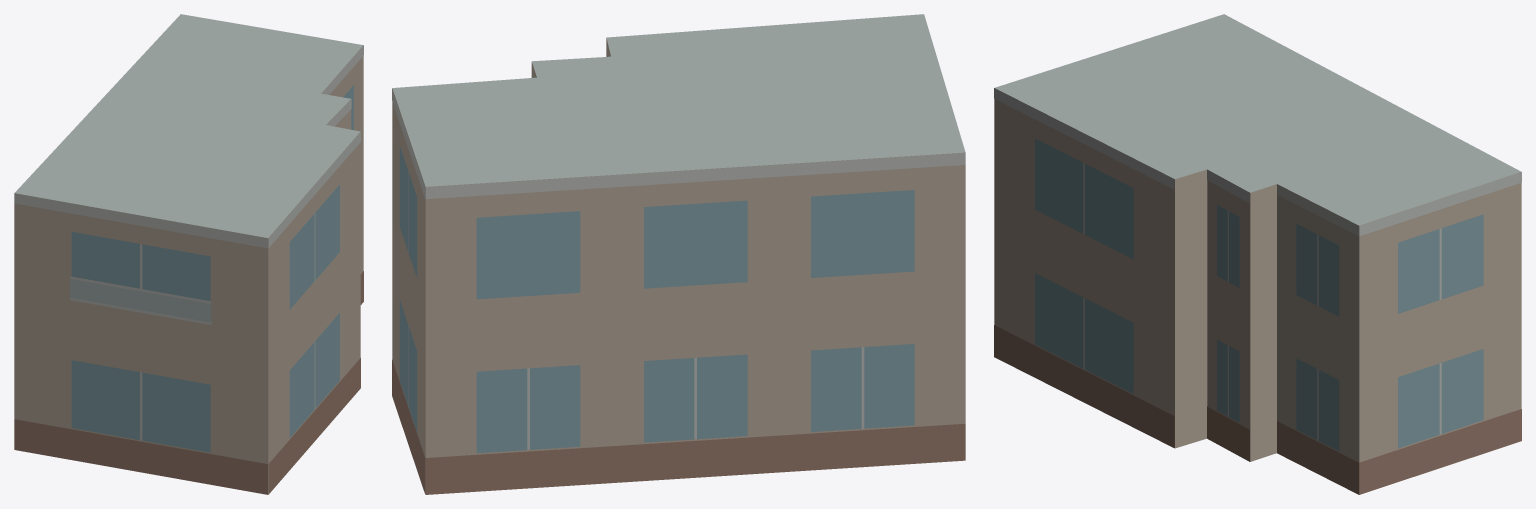
The model's file is survey-upis-32505507.glb.
3 renders of one model, left to right at view 1: azimuth 30°, elevation 25°; view 2: azimuth 150°, elevation 25°; view 3: azimuth 270°, elevation 25°, orthographic. The views are drawn at different scales.
Parts seen in each view (by area): view 1: survey-upis-32505507.tmp; view 2: survey-upis-32505507.tmp; view 3: survey-upis-32505507.tmp.
Part boxes in pixels (left/top/right/bottom): survey-upis-32505507.tmp: left=14, top=14, right=363, bottom=494; survey-upis-32505507.tmp: left=392, top=14, right=965, bottom=494; survey-upis-32505507.tmp: left=994, top=14, right=1521, bottom=494.
Bounding box in the file's own units: 10.3 × 6.1 × 10.84.
